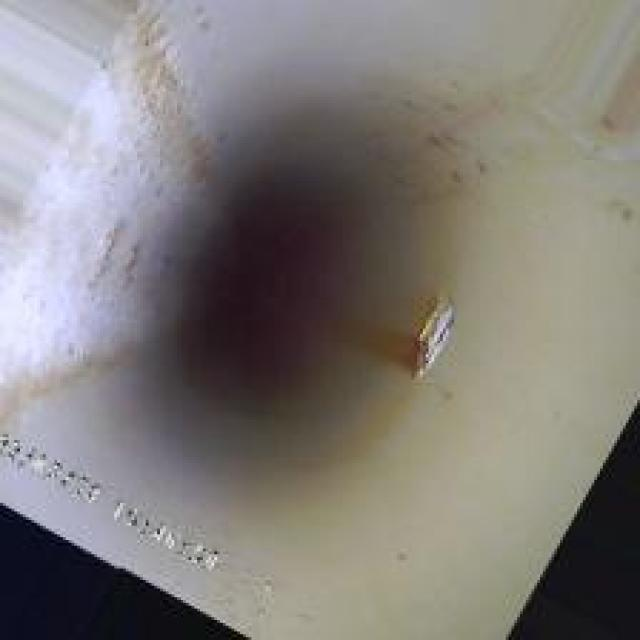ferrule: (403, 280, 463, 380)
